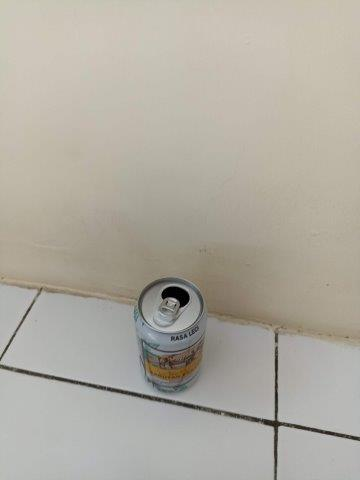kaleng: (135, 276, 206, 394)
